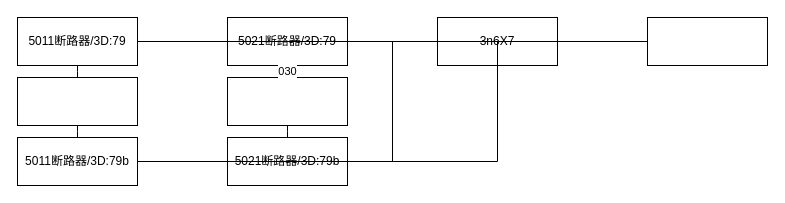
Some shapes in this 785 by 203 pixel diagram are drawn without their labels. Each missing label, with the centre of its shape:
4D44: point 707,41
5011断路器/3D:79a: point 77,101
5021断路器/3D:79a: point 287,101
